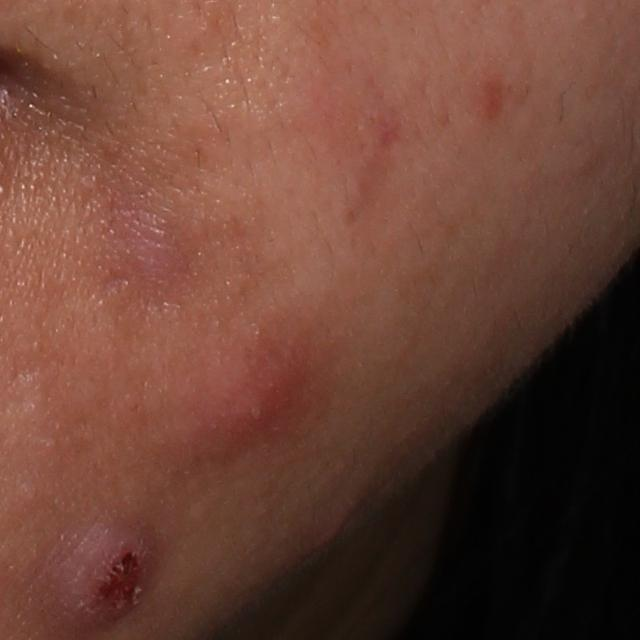nodule: (172, 329, 327, 463)
papule: (122, 210, 181, 289), (286, 504, 353, 567)
